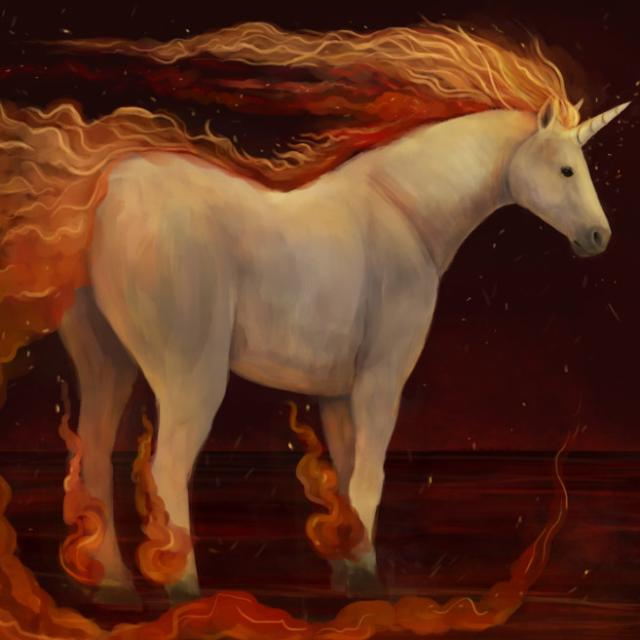Rapidash: (70, 28, 600, 568)
